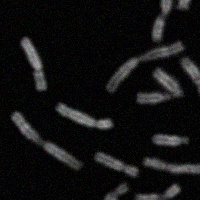chromosome: (11, 111, 83, 170), (104, 42, 183, 93), (56, 102, 114, 129), (19, 36, 46, 91), (94, 150, 138, 177), (144, 157, 200, 173), (153, 67, 183, 96), (150, 0, 171, 41), (135, 183, 180, 200), (181, 57, 200, 97), (136, 90, 171, 105), (153, 134, 189, 146), (103, 183, 128, 200), (177, 0, 194, 9)
